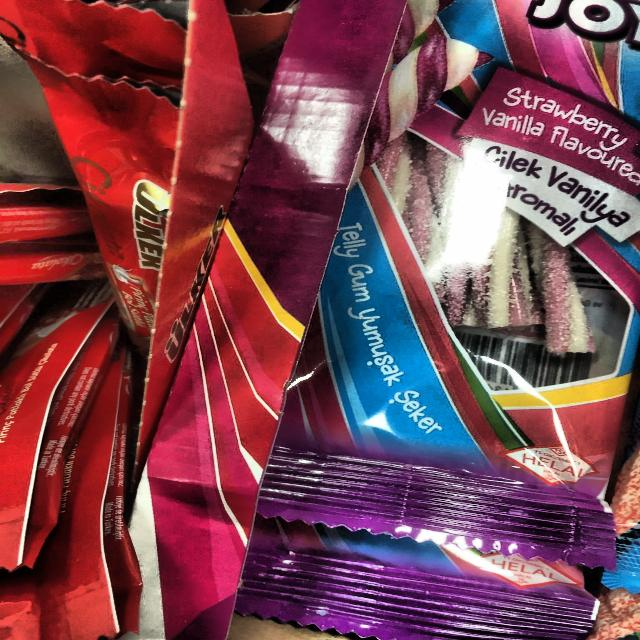Plastic: (277, 0, 638, 574), (5, 3, 185, 360)
